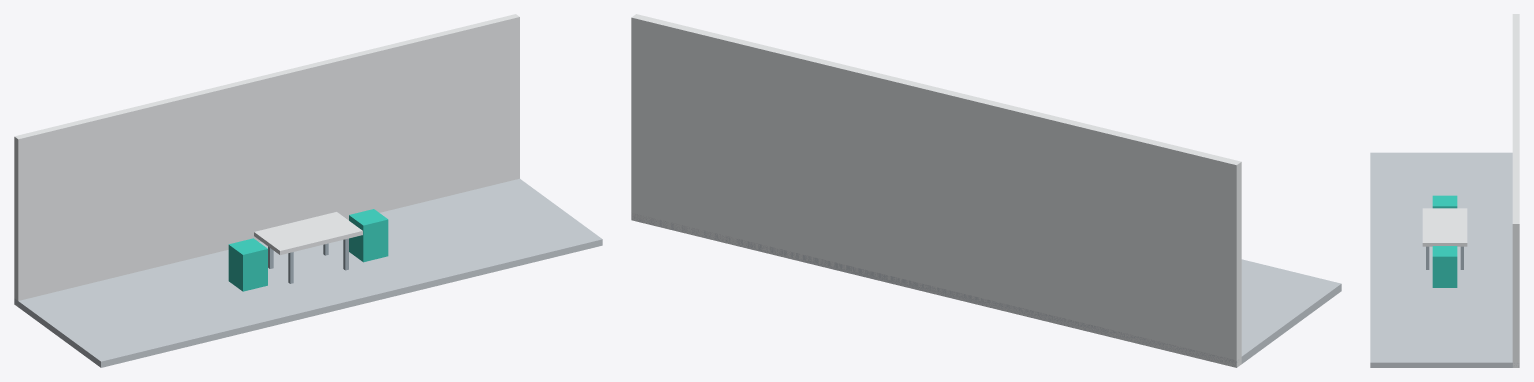
3 renders of one model, left to right at view 1: azimuth 30°, elevation 25°; view 2: azimuth 150°, elevation 25°; view 3: azimuth 270°, elevation 25°, orthographic. The views are drawn at different scales.
Parts seen in each view (by area): view 1: Exhibition Booth Concept; view 2: Exhibition Booth Concept; view 3: Exhibition Booth Concept.
Part boxes in pixels (x1,y1,x2,y2): Exhibition Booth Concept: [14, 14, 602, 367]; Exhibition Booth Concept: [631, 14, 1341, 367]; Exhibition Booth Concept: [1370, 14, 1519, 367].
Bounding box in the file's own units: 10 × 3.2 × 3.
